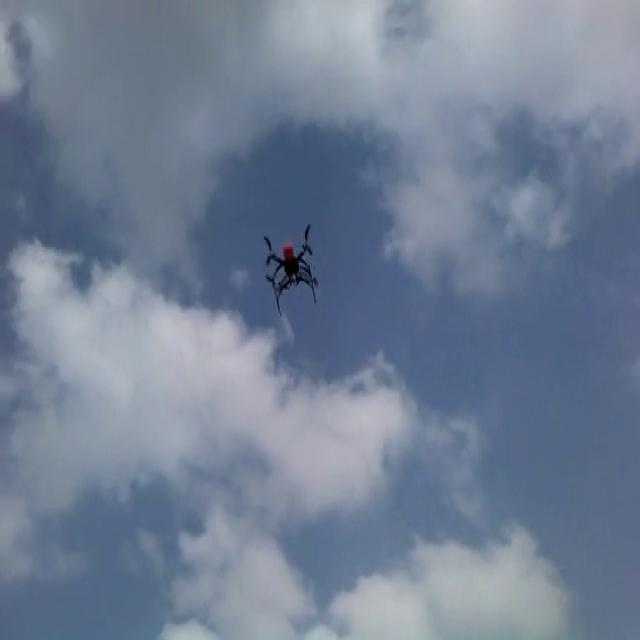drone: (262, 215, 319, 315)
